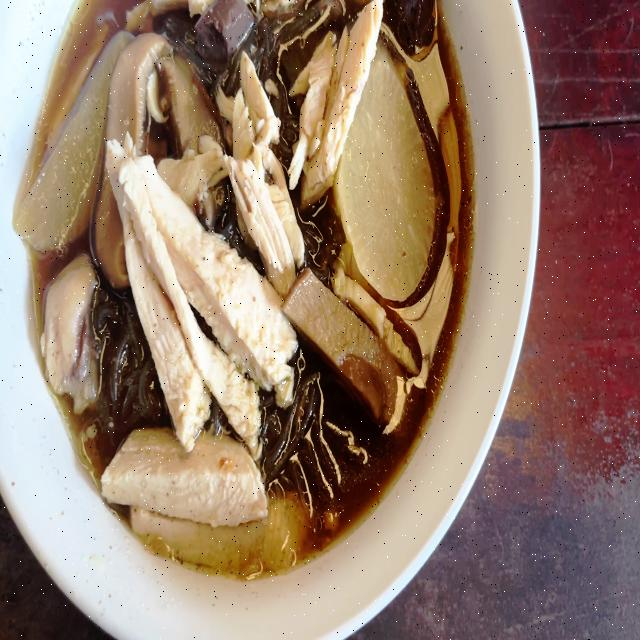boiled_chicken_blood_jelly: (197, 0, 246, 69), (384, 0, 436, 53)
chicken_shredded: (105, 145, 280, 433), (109, 427, 297, 568), (303, 1, 376, 207), (232, 66, 298, 272), (44, 263, 98, 396)
daikon_radish: (343, 65, 426, 303), (19, 20, 101, 247)
noodle: (21, 0, 467, 549)
